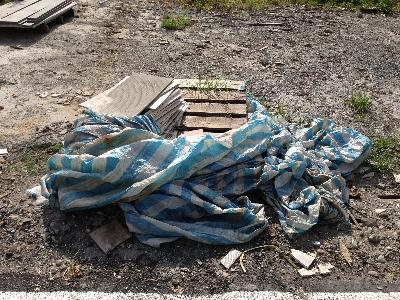plastic_bag: (37, 98, 375, 248)
